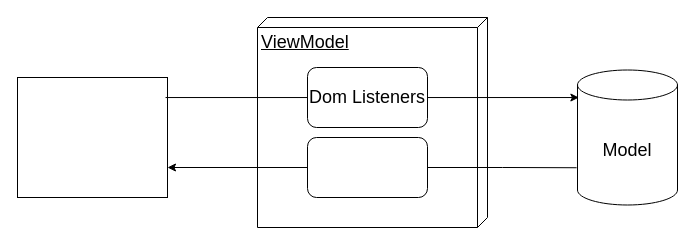
Image size: 695x245. Some labels were removed from this diagram. The centre of each missing label's shape, as x and y in pixels:
"Directives" belongs at pixel 367 167.
"View" belongs at pixel 92 137.
